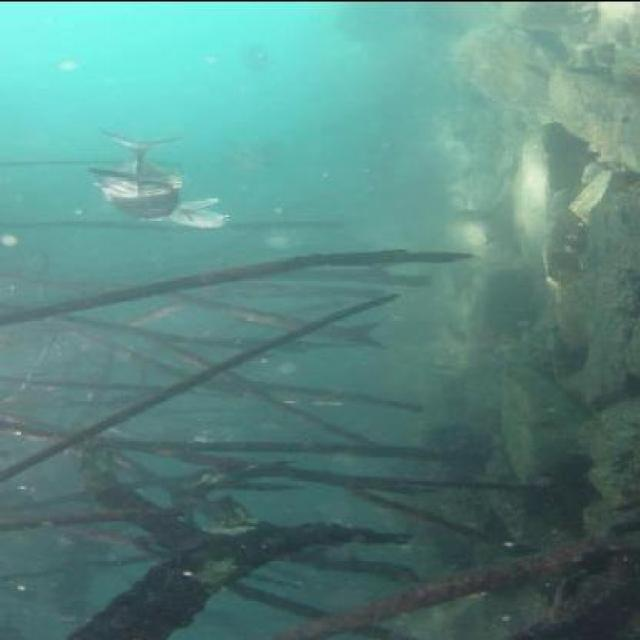Caranx_sexfasciatus_juvenile: (86, 128, 194, 215), (72, 160, 202, 218), (152, 190, 245, 232), (222, 134, 270, 168)
